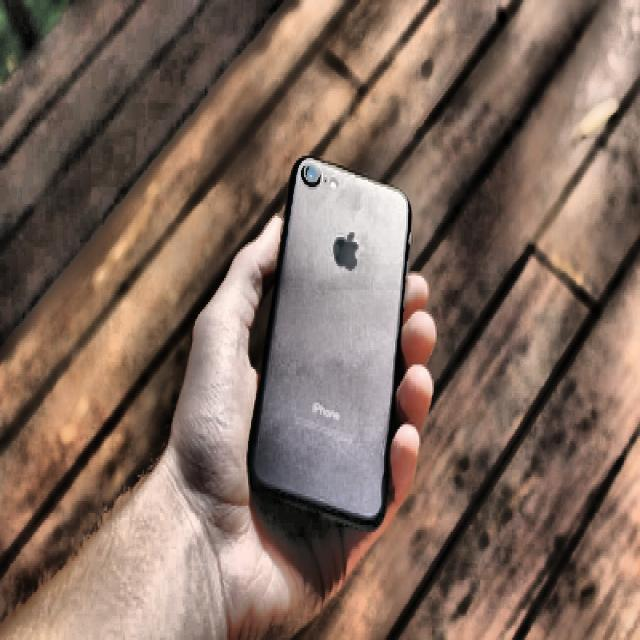Phone: (244, 155, 412, 532)
